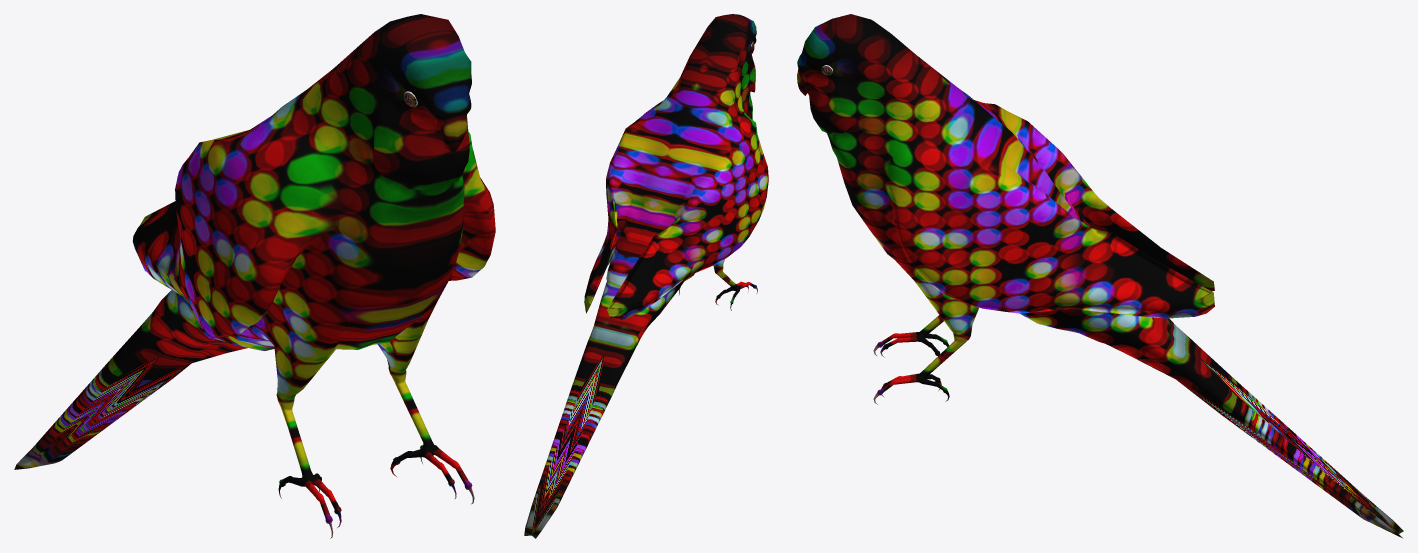
The model's file is PARAKEET.OBJ.
3 views of the same model, side by side, from view 1: azimuth 30°, elevation 25°; view 2: azimuth 150°, elevation 25°; view 3: azimuth 270°, elevation 25° (orthographic). The views are drawn at different scales.
Parts seen in each view (by area): view 1: PARAKEET:pkeet_body; view 2: PARAKEET:pkeet_body; view 3: PARAKEET:pkeet_body.
Part boxes in pixels (<box>): PARAKEET:pkeet_body: <box>14,14,495,538</box>; PARAKEET:pkeet_body: <box>524,14,768,538</box>; PARAKEET:pkeet_body: <box>797,14,1403,538</box>.
Bounding box in the file's own units: 0.0558 × 0.1544 × 0.1648.
